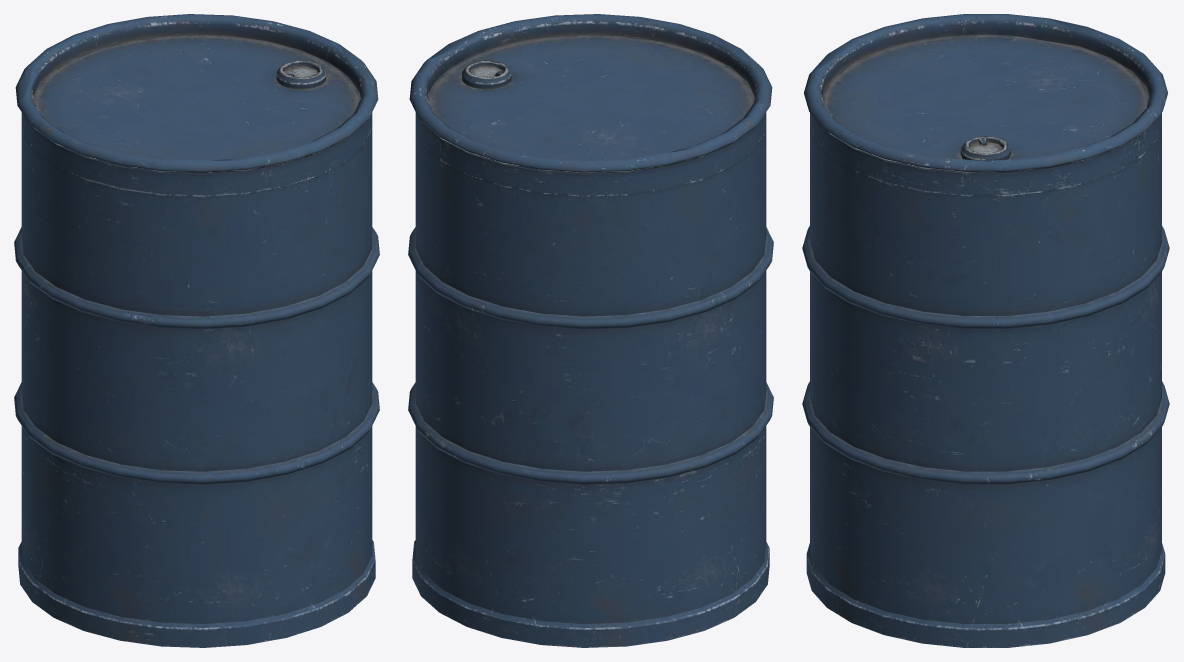
File: barrel_03.glb
3 views of the same model, side by side, from view 1: azimuth 30°, elevation 25°; view 2: azimuth 150°, elevation 25°; view 3: azimuth 270°, elevation 25° (orthographic).
Parts seen in each view (by area): view 1: barrel_03; view 2: barrel_03; view 3: barrel_03.
Part boxes in pixels (left/top/right/bottom): barrel_03: left=14, top=14, right=379, bottom=647; barrel_03: left=408, top=14, right=773, bottom=647; barrel_03: left=802, top=14, right=1169, bottom=647.
Bounding box in the file's own units: 0.6339 × 0.9305 × 0.6386.
1 material, 1 textured.
